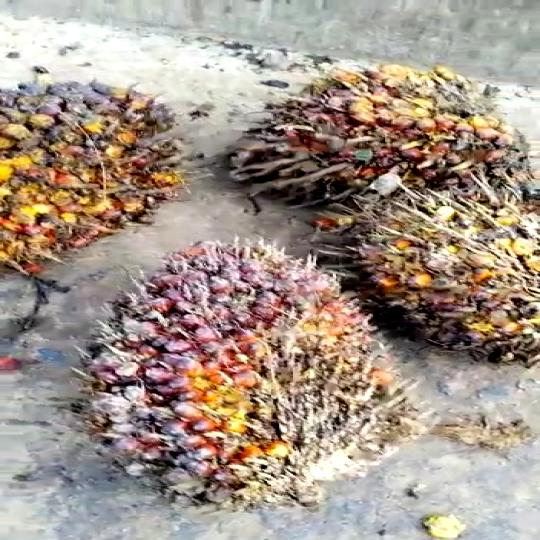masak: (216, 57, 540, 208), (310, 174, 540, 356), (0, 71, 182, 275)
